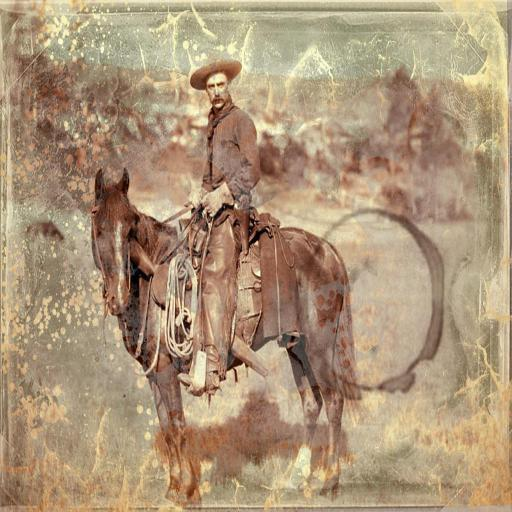horse: (90, 168, 368, 510)
